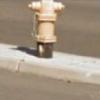a fire hydrant: (28, 0, 64, 44)
